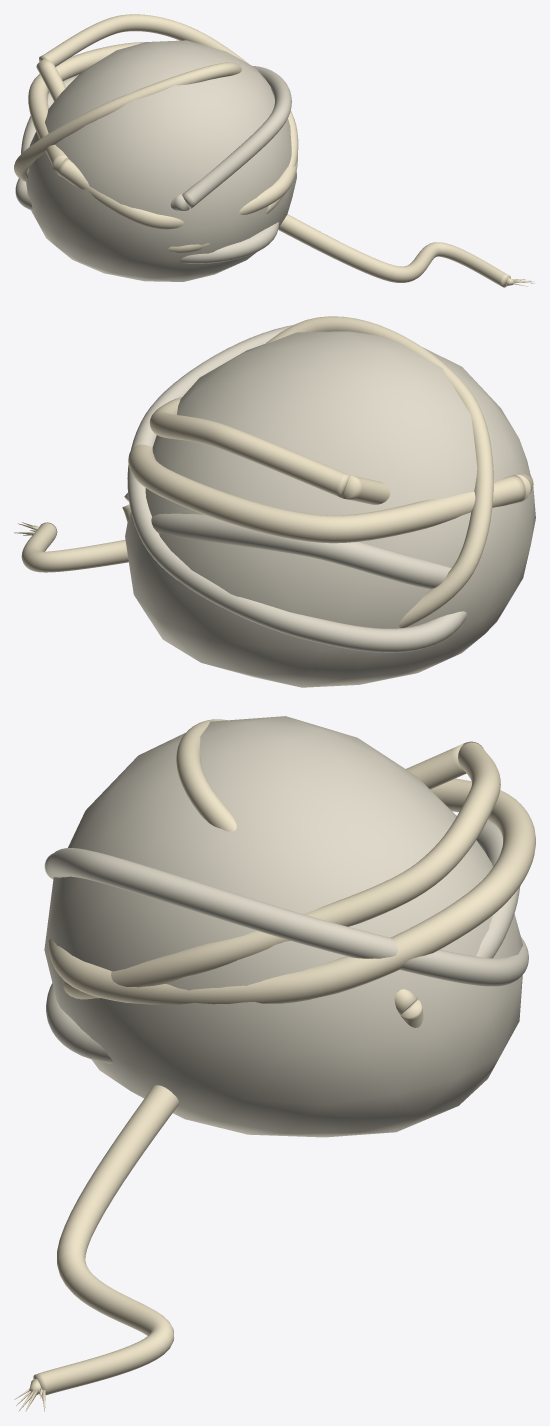
Rendered from yarn_string.glb.
The picture shows the model from 3 angles, top to bottom: view 1: azimuth 30°, elevation 25°; view 2: azimuth 150°, elevation 25°; view 3: azimuth 270°, elevation 25°; orthographic projection. The views are drawn at different scales.
Visible parts, largest first — view 1: TwineBall, WrapA, WrapC, LooseEnd, WrapD, WrapE, WrapB; view 2: TwineBall, WrapA, WrapD, WrapE, WrapB, WrapC, LooseEnd; view 3: TwineBall, WrapA, WrapD, WrapC, LooseEnd, WrapB, WrapE.
Boxes of the visible parts, x1,y1,x2,y2 form: TwineBall: (26,40,296,281); WrapA: (28,42,297,229); WrapC: (36,14,298,253); LooseEnd: (278,214,510,287); WrapD: (15,66,291,210); WrapE: (14,62,241,181); WrapB: (21,75,279,263); TwineBall: (125,331,535,687); WrapA: (128,444,533,543); WrapD: (127,325,466,652); WrapE: (122,316,493,627); WrapB: (151,513,451,588); WrapC: (149,397,390,504); LooseEnd: (21,522,128,572); TwineBall: (44,716,523,1137); WrapA: (48,778,535,1004); WrapD: (44,848,528,986); WrapC: (63,741,500,999); LooseEnd: (33,1085,178,1395); WrapB: (46,820,520,1063); WrapE: (176,719,423,1027).
Size of the model in its own units: 0.2001 by 0.1146 by 0.1266.
